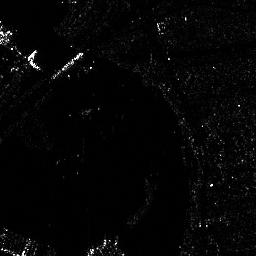ship: (49, 52, 86, 81)
